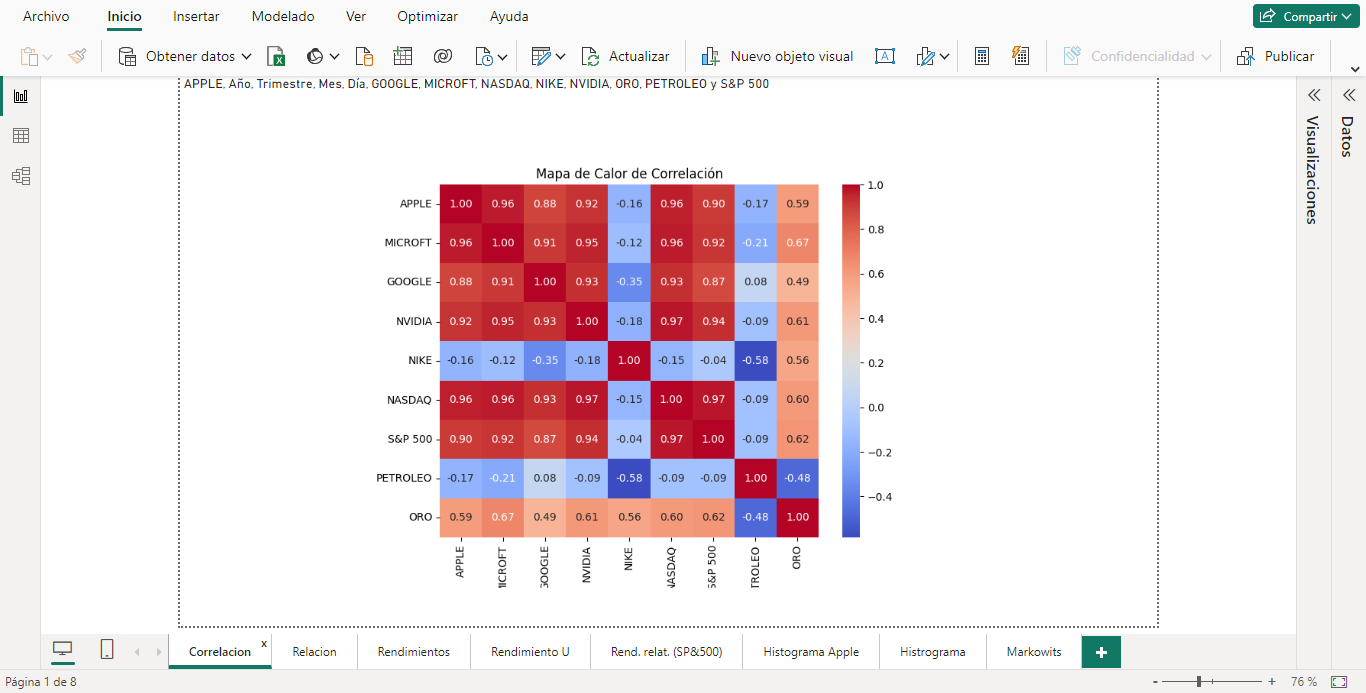

Layout of this report page (visuals, bound fields, positions):
{"tool":"powerbi","page":{"name":"Correlacion","canvas":[1280,720],"ordinal":0},"visuals":[{"type":"pythonVisual","fields":{"Values":["Hoja1.APPLE","Hoja1.Date.Variación.Jerarquía de fechas.Año","Hoja1.Date.Variación.Jerarquía de fechas.Trimestre","Hoja1.Date.Variación.Jerarquía de fechas.Mes","Hoja1.Date.Variación.Jerarquía de fechas.Día","Hoja1.GOOGLE","Hoja1.MICROFT","Hoja1.NASDAQ","Hoja1.NIKE","Hoja1.NVIDIA","Hoja1.ORO","Hoja1.PETROLEO"]},"box":[0,0,1279.3,720],"z":0}]}

Visuals, with their boxes on the page's 1280x720 design canvas (x1, y1, x2, y2). These are canvas units, not pixel positions in the 1366x693 screenshot, which may show the page scaled, cropped or inside an application window:
pythonVisual - Hoja1.APPLE x Hoja1.Date.Variación.Jerarquía de fechas.Año: bbox=(0, 0, 1279, 720)
